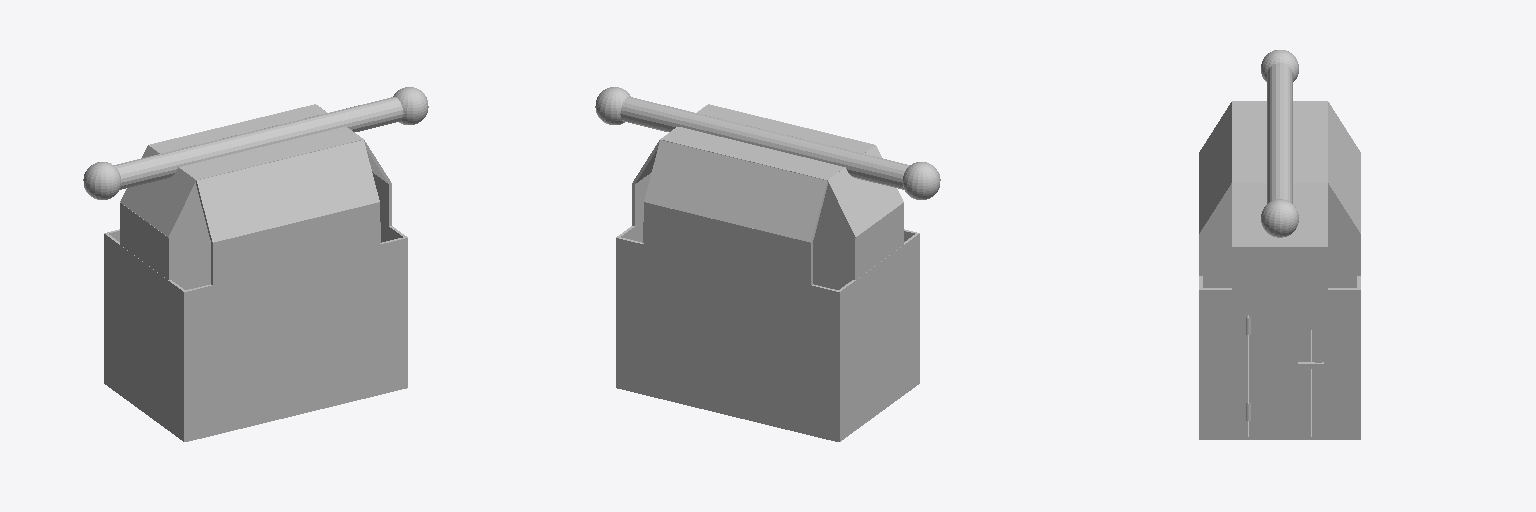
The model's file is ruedaFortunaAsiento2.obj.
3 renders of one model, left to right at view 1: azimuth 30°, elevation 25°; view 2: azimuth 150°, elevation 25°; view 3: azimuth 270°, elevation 25°, orthographic.
Visible parts, largest first — view 1: pCube93, pCube89, pCube95, pCylinder175, pCube9, pCube86, pCube94, pSphere5, pCube28, pCube23, pCube26, pCube32 (+23 smaller); view 2: pCube94, pCube90, pCube95, pCylinder175, pCube9, pCube86, pCube93, pSphere5, pCube16, pCube11, pCube14, pCube17 (+23 smaller); view 3: pCube98, pCube9, pCube87, pCube97, pCube95, pCylinder175, pCube88, pCube96, pSphere6, pCube43, pCube48, pCube44 (+9 smaller).
Part boxes in pixels (left/top/right/bottom): pCube93: left=185, top=237, right=407, bottom=382; pCube89: left=185, top=330, right=407, bottom=441; pCube95: left=104, top=233, right=186, bottom=383; pCylinder175: left=114, top=97, right=403, bottom=189; pCube9: left=149, top=104, right=363, bottom=179; pCube86: left=104, top=326, right=186, bottom=441; pCube94: left=107, top=211, right=210, bottom=289; pSphere5: left=83, top=162, right=120, bottom=199; pCube28: left=196, top=177, right=225, bottom=242; pCube23: left=336, top=143, right=365, bottom=208; pCube26: left=294, top=153, right=323, bottom=218; pCube32: left=252, top=164, right=281, bottom=228; pCube94: left=616, top=237, right=838, bottom=382; pCube90: left=616, top=330, right=836, bottom=441; pCube95: left=837, top=233, right=919, bottom=383; pCylinder175: left=620, top=97, right=909, bottom=189; pCube9: left=660, top=104, right=874, bottom=180; pCube86: left=837, top=326, right=919, bottom=441; pCube93: left=813, top=211, right=916, bottom=289; pSphere5: left=903, top=162, right=940, bottom=199; pCube16: left=798, top=177, right=827, bottom=242; pCube11: left=658, top=143, right=687, bottom=208; pCube14: left=700, top=153, right=729, bottom=218; pCube17: left=784, top=174, right=812, bottom=238; pCube98: left=1249, top=290, right=1310, bottom=439; pCube9: left=1232, top=101, right=1327, bottom=182; pCube87: left=1199, top=289, right=1247, bottom=381; pCube97: left=1312, top=289, right=1360, bottom=381; pCube95: left=1203, top=189, right=1356, bottom=273; pCylinder175: left=1267, top=63, right=1292, bottom=203; pCube88: left=1312, top=382, right=1360, bottom=439; pCube96: left=1199, top=382, right=1247, bottom=439; pSphere6: left=1261, top=199, right=1298, bottom=237; pCube43: left=1232, top=183, right=1247, bottom=246; pCube48: left=1312, top=183, right=1327, bottom=246; pCube44: left=1248, top=183, right=1263, bottom=246.
Bounding box in the file's own units: 12.2 × 8.9 × 5.01.